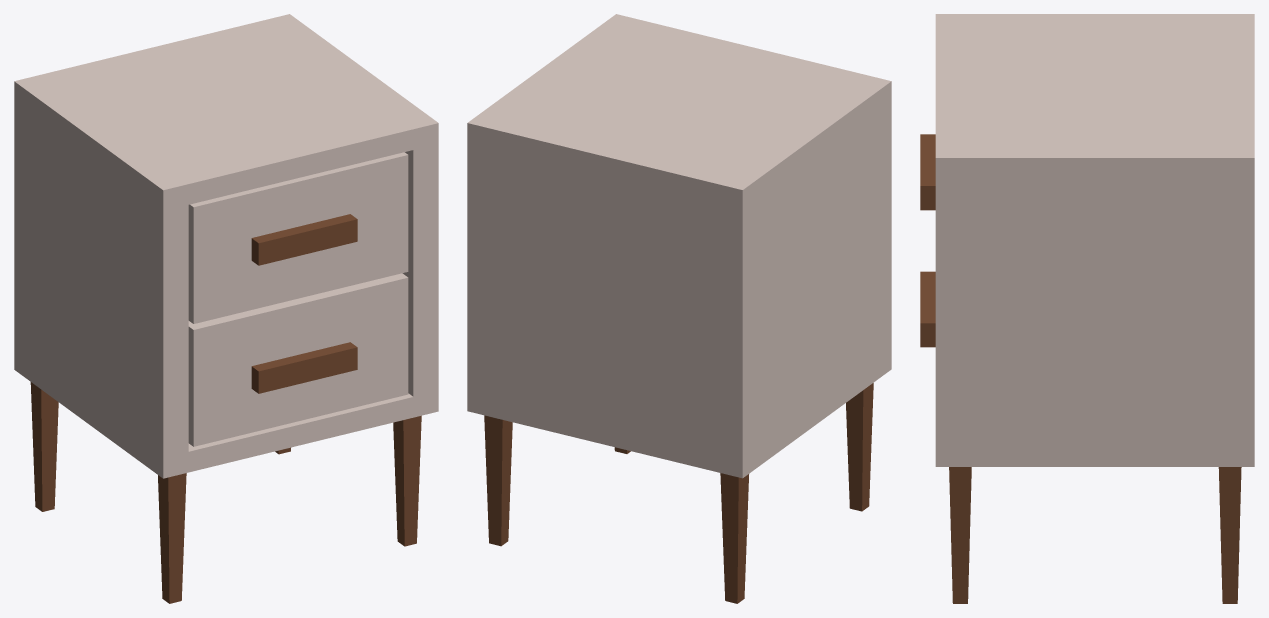
File: Nightstand.fbx
The picture shows the model from 3 angles, left to right: view 1: azimuth 30°, elevation 25°; view 2: azimuth 150°, elevation 25°; view 3: azimuth 270°, elevation 25°; orthographic projection. The views are drawn at different scales.
Parts seen in each view (by area): view 1: Nightstand; view 2: Nightstand; view 3: Nightstand.
Boxes of the visible parts, left/top/right/bottom form: Nightstand: left=14, top=14, right=438, bottom=603; Nightstand: left=467, top=14, right=891, bottom=603; Nightstand: left=920, top=14, right=1254, bottom=603.
Size of the model in its own units: 54.89 by 80.53 by 53.87.
